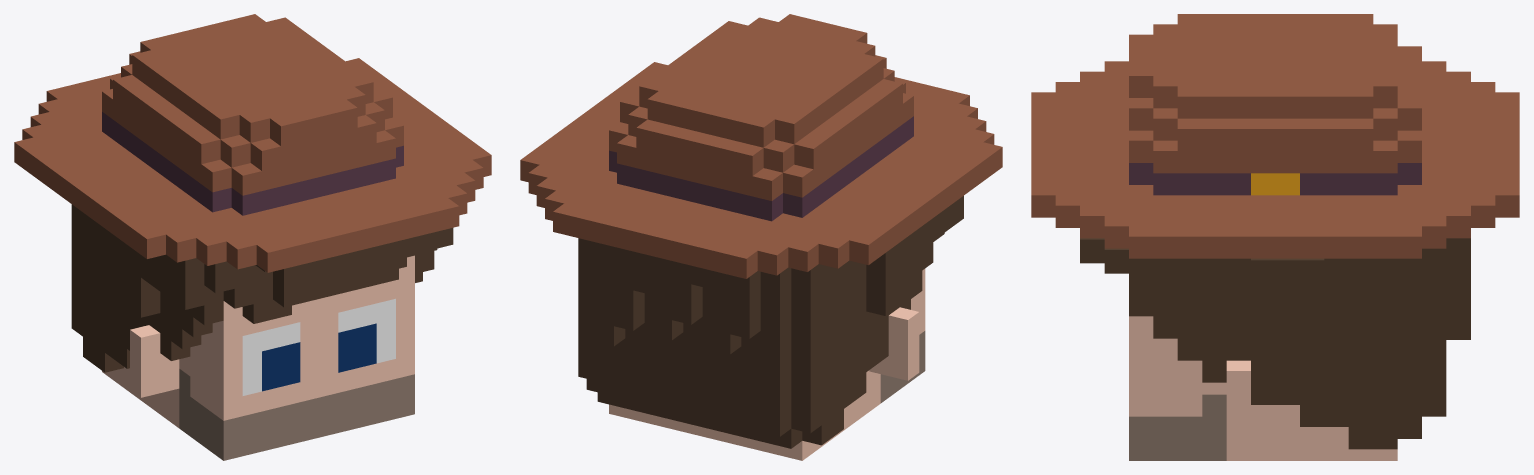
File: CharacterHead.obj
3 views of the same model, side by side, from view 1: azimuth 30°, elevation 25°; view 2: azimuth 150°, elevation 25°; view 3: azimuth 270°, elevation 25° (orthographic). The views are drawn at different scales.
Size of the model in its own units: 1.8 by 1.6 by 2.
